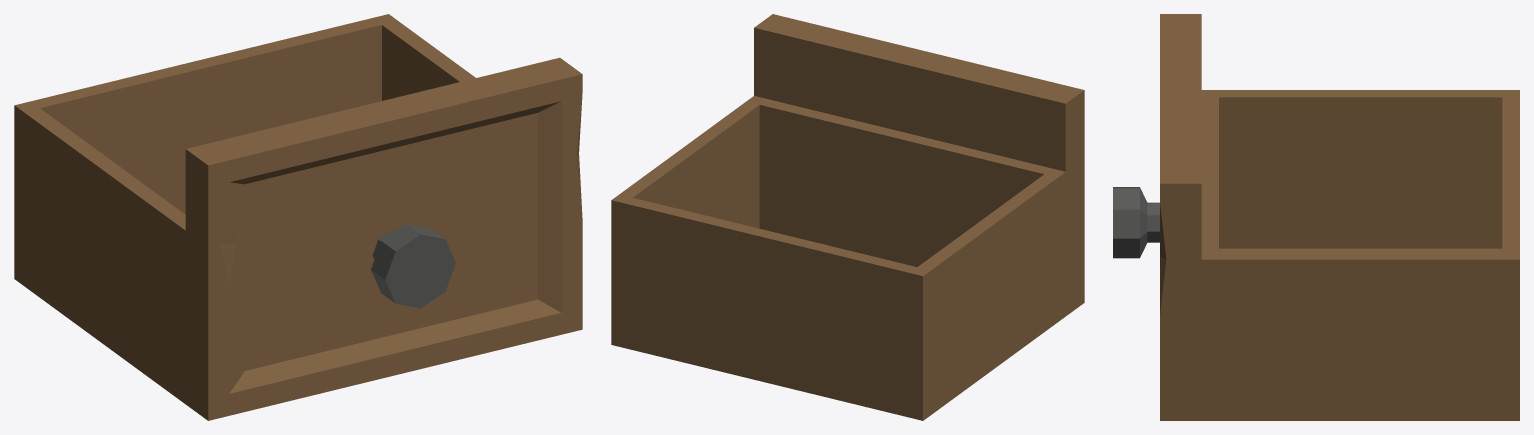
The model's file is SFHW_Roof_Shelving_004_Cabinet.fbx.
The picture shows the model from 3 angles, left to right: view 1: azimuth 30°, elevation 25°; view 2: azimuth 150°, elevation 25°; view 3: azimuth 270°, elevation 25°; orthographic projection. The views are drawn at different scales.
Visible parts, largest first — view 1: SFHW_Roof_Shelving_004_Cabinet; view 2: SFHW_Roof_Shelving_004_Cabinet; view 3: SFHW_Roof_Shelving_004_Cabinet.
Boxes of the visible parts, bbox=[...] form: SFHW_Roof_Shelving_004_Cabinet: bbox=[14, 14, 582, 420]; SFHW_Roof_Shelving_004_Cabinet: bbox=[611, 14, 1084, 420]; SFHW_Roof_Shelving_004_Cabinet: bbox=[1113, 14, 1519, 420].
Bounding box in the file's own units: 32.6 × 21.27 × 33.03.
